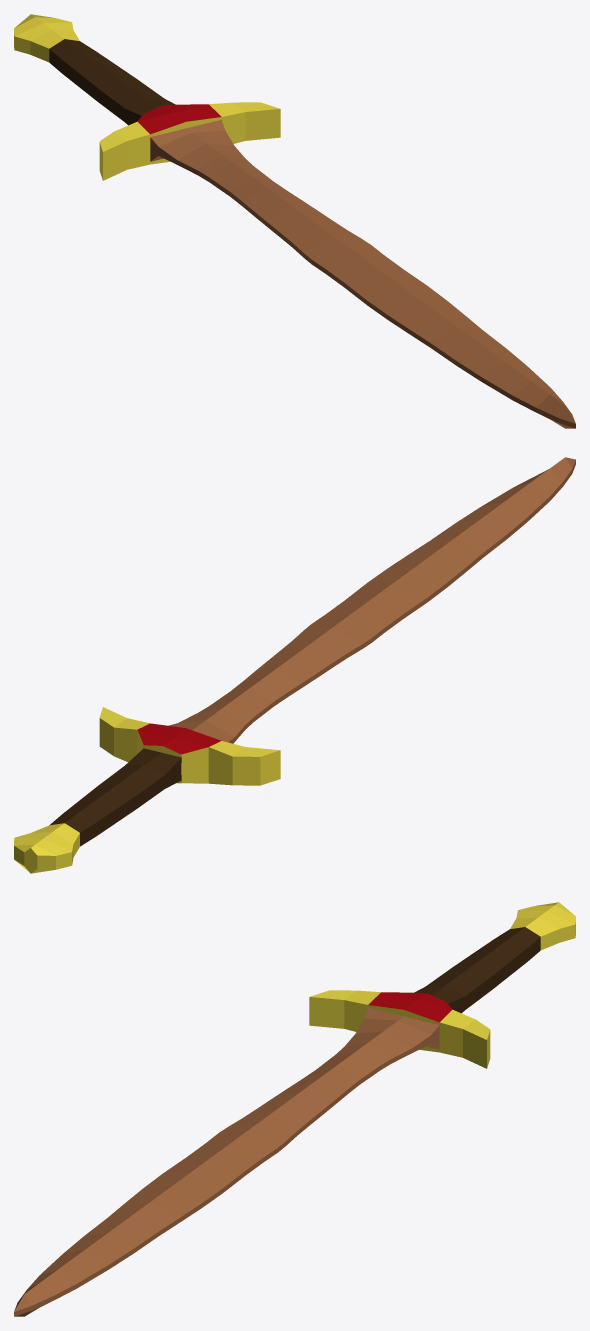
Rendered from ShortswordCopper.fbx.
3 views of the same model, one above another, from view 1: azimuth 30°, elevation 25°; view 2: azimuth 150°, elevation 25°; view 3: azimuth 330°, elevation 25° (orthographic).
Parts seen in each view (by area): view 1: Cube; view 2: Cube; view 3: Cube.
Boxes of the visible parts, x1,y1,x2,y2 form: Cube: [14, 14, 575, 428]; Cube: [14, 457, 575, 873]; Cube: [14, 902, 575, 1316].
Bounding box in the file's own units: 129 × 26.35 × 687.
